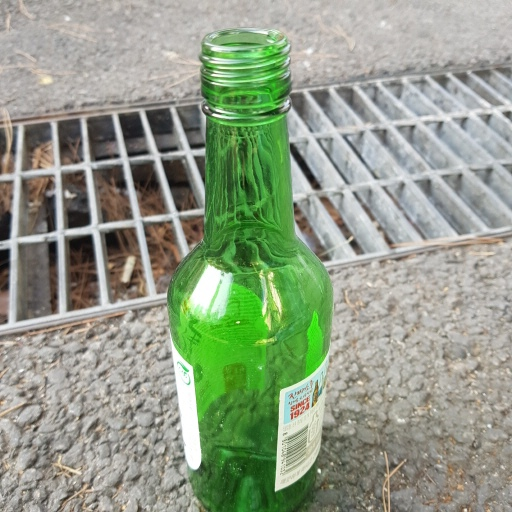Glass_0: (165, 26, 336, 512)
